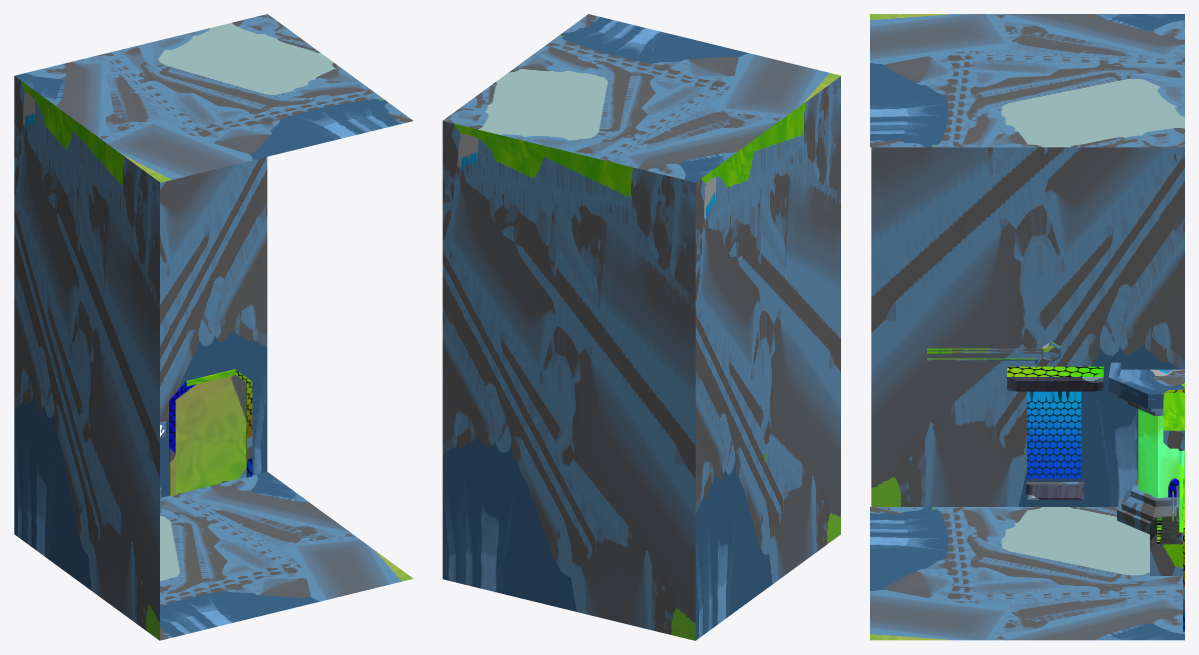
File: LAB (2).fbx
3 renders of one model, left to right at view 1: azimuth 30°, elevation 25°; view 2: azimuth 150°, elevation 25°; view 3: azimuth 270°, elevation 25°, orthographic. The views are drawn at different scales.
Parts seen in each view (by area): view 1: pPlane3, pPlane16, pPlane1, pPlane2, pCube8; view 2: pPlane2, pPlane3, pPlane16; view 3: pPlane3, pPlane16, pPlane1, Capsula, pPlane5, pCube1, pCube6, pCube11, pCube7.
Boxes of the visible parts, x1,y1,x2,y2 form: pPlane3: (14, 76, 159, 640); pPlane16: (14, 14, 413, 182); pPlane1: (160, 472, 413, 640); pPlane2: (160, 157, 267, 497); pCube8: (169, 369, 252, 496); pPlane2: (442, 121, 695, 640); pPlane3: (695, 76, 840, 640); pPlane16: (443, 14, 840, 182); pPlane3: (871, 147, 1184, 506); pPlane16: (870, 14, 1184, 147); pPlane1: (870, 507, 1184, 640); Capsula: (1108, 362, 1184, 534); pPlane5: (1027, 391, 1081, 478); pCube1: (1007, 366, 1103, 391); pCube6: (1150, 517, 1182, 575); pCube11: (1163, 392, 1184, 448); pCube7: (1026, 482, 1084, 499).
Bounding box in the file's own units: 39.1 × 67.63 × 39.08.
